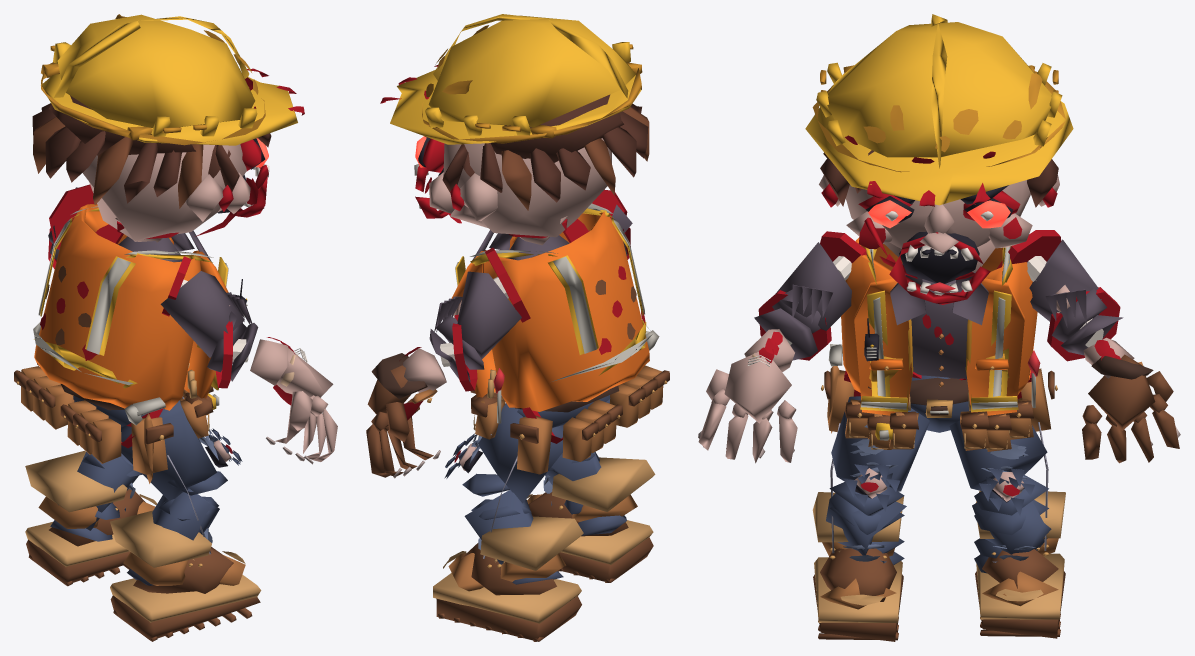
The picture shows the model from 3 angles, left to right: view 1: azimuth 30°, elevation 25°; view 2: azimuth 150°, elevation 25°; view 3: azimuth 270°, elevation 25°; orthographic projection. The views are drawn at different scales.
Visible parts, largest first — view 1: head, torso, footR, footL, hip, legR, armR, handR, shinR, foreArmR, shinL, stump_armL (+1 smaller); view 2: head, torso, footL, hip, footR, handL, armL, legL, shinL, foreArmL, shinR, stump_foreArmL (+2 smaller); view 3: head, torso, hip, footR, footL, handL, handR, legR, legL, shinL, shinR, armR (+7 smaller).
Part boxes in pixels (x1,y1,x2,y2): head: [32, 14, 304, 242]; torso: [33, 204, 247, 410]; footR: [110, 510, 261, 641]; footL: [25, 450, 157, 586]; hip: [14, 363, 219, 483]; legR: [121, 400, 242, 554]; armR: [160, 271, 252, 357]; handR: [266, 348, 337, 464]; shinR: [127, 471, 227, 585]; foreArmR: [207, 311, 307, 386]; shinL: [50, 452, 142, 541]; stump_armL: [49, 184, 123, 249]; head: [380, 14, 649, 245]; torso: [451, 203, 652, 411]; footL: [433, 516, 583, 641]; hip: [470, 330, 669, 474]; footR: [526, 457, 655, 582]; handL: [366, 353, 440, 478]; armL: [434, 271, 521, 358]; legL: [444, 403, 563, 558]; shinL: [462, 473, 563, 584]; foreArmL: [399, 315, 484, 392]; shinR: [543, 452, 626, 535]; stump_foreArmL: [440, 314, 477, 391]; head: [805, 14, 1073, 304]; torso: [841, 237, 1037, 415]; hip: [821, 344, 1057, 451]; footR: [812, 492, 903, 641]; footL: [975, 490, 1065, 638]; handL: [1082, 354, 1180, 463]; handR: [698, 351, 797, 463]; legR: [830, 396, 929, 553]; legL: [949, 420, 1048, 550]; shinL: [972, 474, 1051, 573]; shinR: [826, 482, 906, 565]; armR: [775, 242, 851, 330].
Bounding box in the file's own units: 0.801 × 1.8 × 1.34.
